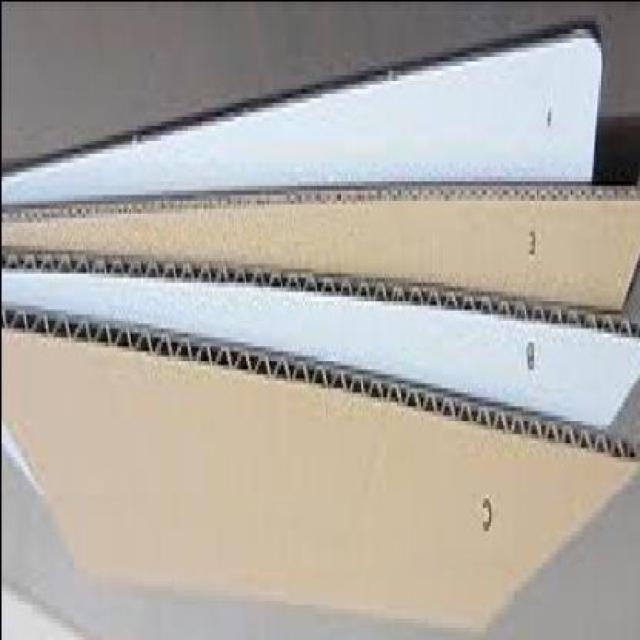CARDBOARD: (1, 312, 638, 623), (1, 252, 638, 438), (3, 19, 603, 208), (1, 197, 638, 309), (2, 420, 40, 502)
